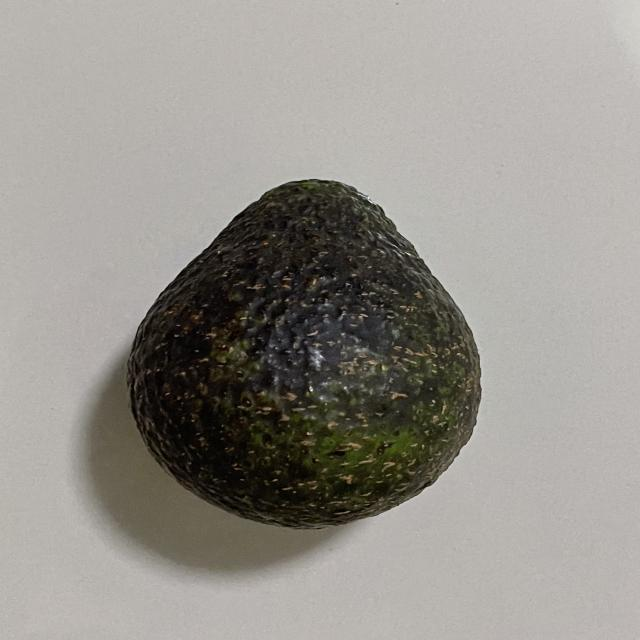avocado: (108, 162, 506, 544)
